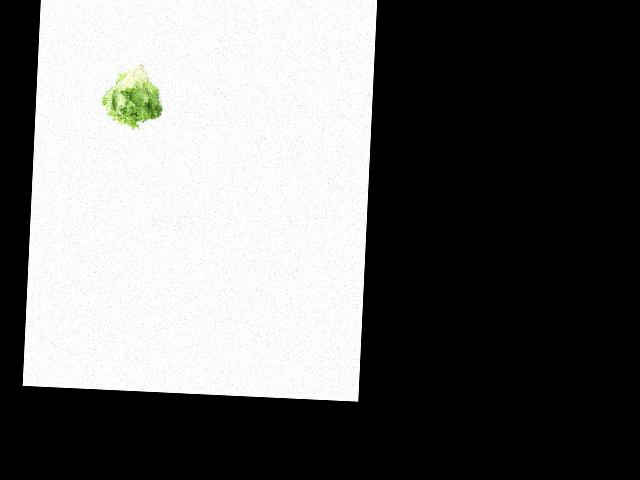lettuce: (98, 61, 165, 129)
